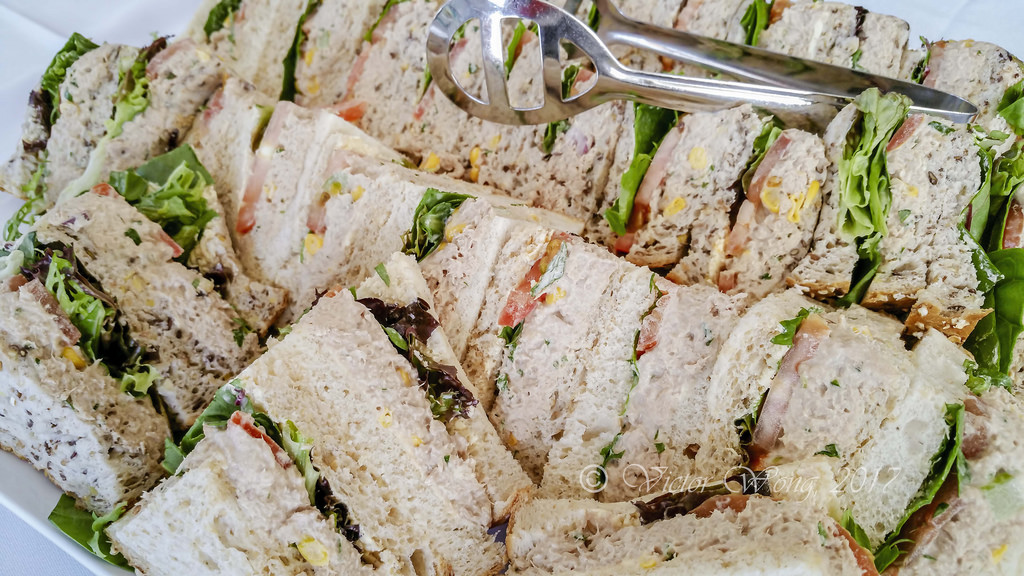chopped lettuce: (970, 69, 1024, 401), (22, 243, 119, 372), (104, 152, 211, 250), (854, 90, 906, 271)
